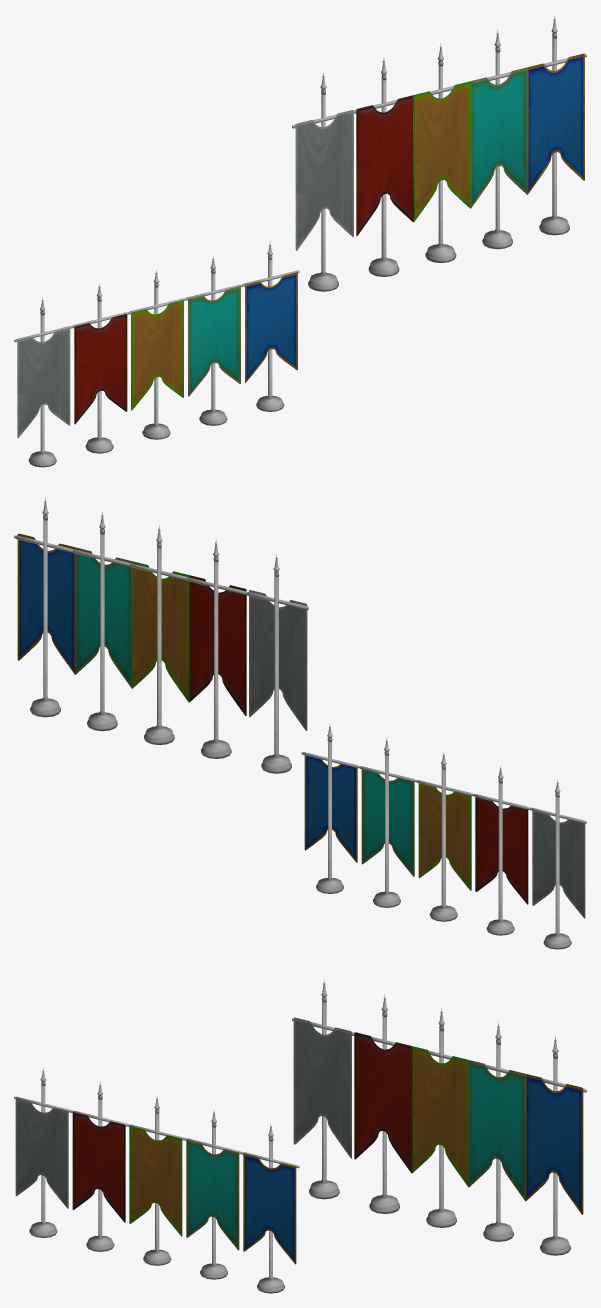
Rendered from Banner_Stands_1.fbx.
3 renders of one model, top to bottom at view 1: azimuth 30°, elevation 25°; view 2: azimuth 150°, elevation 25°; view 3: azimuth 330°, elevation 25°, orthographic.
Visible parts, largest first — view 1: Banner_Stand_2E, Banner_Stand_2C, Banner_Stand_2D, Banner_Stand_2A, Banner_Stand_2B, Banner_Stand_1C, Banner_Stand_1E, Banner_Stand_1D, Banner_Stand_1A, Banner_Stand_1B; view 2: Banner_Stand_2E, Banner_Stand_2A, Banner_Stand_2C, Banner_Stand_2B, Banner_Stand_2D, Banner_Stand_1D, Banner_Stand_1E, Banner_Stand_1C, Banner_Stand_1B, Banner_Stand_1A; view 3: Banner_Stand_2E, Banner_Stand_2C, Banner_Stand_2B, Banner_Stand_2D, Banner_Stand_2A, Banner_Stand_1D, Banner_Stand_1C, Banner_Stand_1E, Banner_Stand_1A, Banner_Stand_1B.
Part boxes in pixels (x1=…): Banner_Stand_2E: x1=292, y1=71, x2=355, y2=291; Banner_Stand_2C: x1=354, y1=57, x2=414, y2=276; Banner_Stand_2D: x1=413, y1=43, x2=471, y2=262; Banner_Stand_2A: x1=527, y1=15, x2=586, y2=235; Banner_Stand_2B: x1=470, y1=29, x2=528, y2=249; Banner_Stand_1C: x1=71, y1=283, x2=128, y2=453; Banner_Stand_1E: x1=14, y1=297, x2=71, y2=467; Banner_Stand_1D: x1=128, y1=269, x2=185, y2=439; Banner_Stand_1A: x1=242, y1=242, x2=299, y2=411; Banner_Stand_1B: x1=185, y1=256, x2=242, y2=425; Banner_Stand_2E: x1=245, y1=554, x2=308, y2=773; Banner_Stand_2A: x1=14, y1=497, x2=75, y2=717; Banner_Stand_2C: x1=186, y1=539, x2=247, y2=758; Banner_Stand_2B: x1=72, y1=511, x2=132, y2=731; Banner_Stand_2D: x1=129, y1=525, x2=189, y2=744; Banner_Stand_1D: x1=415, y1=751, x2=472, y2=921; Banner_Stand_1E: x1=529, y1=779, x2=586, y2=949; Banner_Stand_1C: x1=472, y1=766, x2=529, y2=935; Banner_Stand_1B: x1=358, y1=738, x2=415, y2=907; Banner_Stand_1A: x1=301, y1=724, x2=358, y2=893; Banner_Stand_2E: x1=292, y1=979, x2=354, y2=1199; Banner_Stand_2C: x1=352, y1=994, x2=412, y2=1213; Banner_Stand_2B: x1=468, y1=1021, x2=526, y2=1241; Banner_Stand_2D: x1=411, y1=1008, x2=469, y2=1227; Banner_Stand_2A: x1=525, y1=1035, x2=586, y2=1255; Banner_Stand_1D: x1=128, y1=1095, x2=185, y2=1265; Banner_Stand_1C: x1=71, y1=1082, x2=128, y2=1251; Banner_Stand_1E: x1=14, y1=1068, x2=71, y2=1237; Banner_Stand_1A: x1=241, y1=1124, x2=299, y2=1293; Banner_Stand_1B: x1=184, y1=1109, x2=241, y2=1279.
Bounding box in the file's own units: 1609 × 866 × 74.95.
